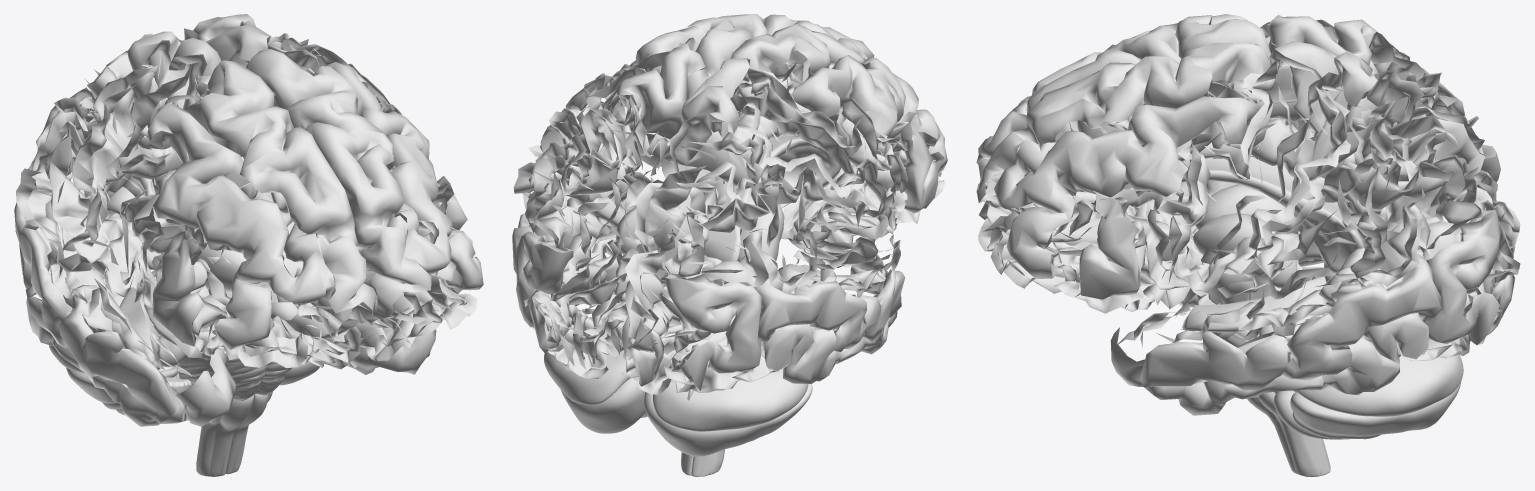
Rendered from encefalo.glb.
3 renders of one model, left to right at view 1: azimuth 30°, elevation 25°; view 2: azimuth 150°, elevation 25°; view 3: azimuth 270°, elevation 25°, orthographic. The views are drawn at different scales.
Visible parts, largest first — view 1: lobo_frontal_d, lobo_frontal_e, lobo_temporal_d, lobo_parietal_d, tronco, lobo_limbico_d, cerebelo, lobo_temporal_e, corpo_caloso, lobo_parietal_e, lobo_occipital_d, talamo; view 2: lobo_frontal_d, lobo_parietal_d, lobo_temporal_d, lobo_occipital_d, cerebelo, lobo_occipital_e, lobo_parietal_e, lobo_frontal_e, lobo_temporal_e, lobo_limbico_d, corpo_caloso, lobo_limbico_e (+2 smaller); view 3: lobo_frontal_e, lobo_temporal_e, lobo_parietal_e, lobo_frontal_d, lobo_occipital_e, cerebelo, lobo_limbico_e, corpo_caloso, tronco, talamo, lobo_parietal_d, lobo_occipital_d (+1 smaller).
Boxes of the visible parts, left/top/right/bottom form: lobo_frontal_d: left=106, top=31, right=375, bottom=369; lobo_frontal_e: left=197, top=14, right=483, bottom=360; lobo_temporal_d: left=14, top=164, right=236, bottom=426; lobo_parietal_d: left=16, top=33, right=171, bottom=265; tronco: left=177, top=282, right=291, bottom=476; lobo_limbico_d: left=72, top=77, right=293, bottom=359; cerebelo: left=49, top=270, right=319, bottom=415; lobo_temporal_e: left=302, top=300, right=436, bottom=374; corpo_caloso: left=126, top=194, right=335, bottom=304; lobo_parietal_e: left=184, top=17, right=401, bottom=114; lobo_occipital_d: left=28, top=112, right=161, bottom=279; talamo: left=198, top=236, right=246, bottom=291; lobo_frontal_d: left=681, top=20, right=947, bottom=253; lobo_parietal_d: left=634, top=95, right=894, bottom=285; lobo_temporal_d: left=703, top=218, right=905, bottom=384; lobo_occipital_d: left=621, top=236, right=789, bottom=400; cerebelo: left=544, top=317, right=812, bottom=456; lobo_occipital_e: left=516, top=213, right=640, bottom=378; lobo_parietal_e: left=524, top=67, right=669, bottom=260; lobo_frontal_e: left=602, top=14, right=834, bottom=208; lobo_temporal_e: left=512, top=145, right=686, bottom=314; lobo_limbico_d: left=678, top=84, right=905, bottom=293; corpo_caloso: left=616, top=133, right=841, bottom=283; lobo_limbico_e: left=570, top=91, right=762, bottom=231; lobo_frontal_e: left=976, top=40, right=1377, bottom=313; lobo_temporal_e: left=1110, top=204, right=1461, bottom=415; lobo_parietal_e: left=1201, top=70, right=1484, bottom=287; lobo_frontal_d: left=976, top=14, right=1377, bottom=245; lobo_occipital_e: left=1332, top=167, right=1520, bottom=361; cerebelo: left=1259, top=267, right=1463, bottom=439; lobo_limbico_e: left=1172, top=96, right=1384, bottom=332; corpo_caloso: left=1097, top=156, right=1364, bottom=273; tronco: left=1197, top=262, right=1330, bottom=476; talamo: left=1193, top=184, right=1298, bottom=288; lobo_parietal_d: left=1280, top=19, right=1484, bottom=154; lobo_occipital_d: left=1442, top=116, right=1520, bottom=255.
Size of the model in its own units: 0.1363 by 0.1607 by 0.1803.
Materials: 6 (1 with a texture image).
